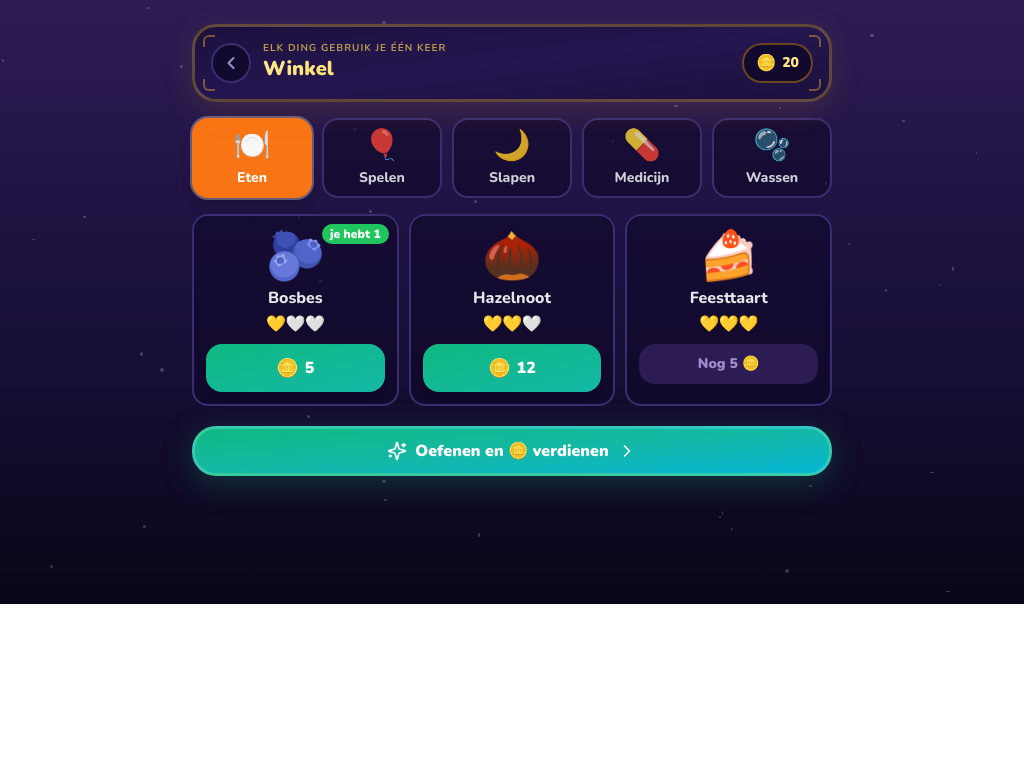
Test: BuddyShop › asks before spending coins, then offers to give the item to the Buddy
Click the button "🌰 Hazelnoot 💛💛🤍 🪙 12".
click(512, 310)  # box [409, 214, 615, 406]
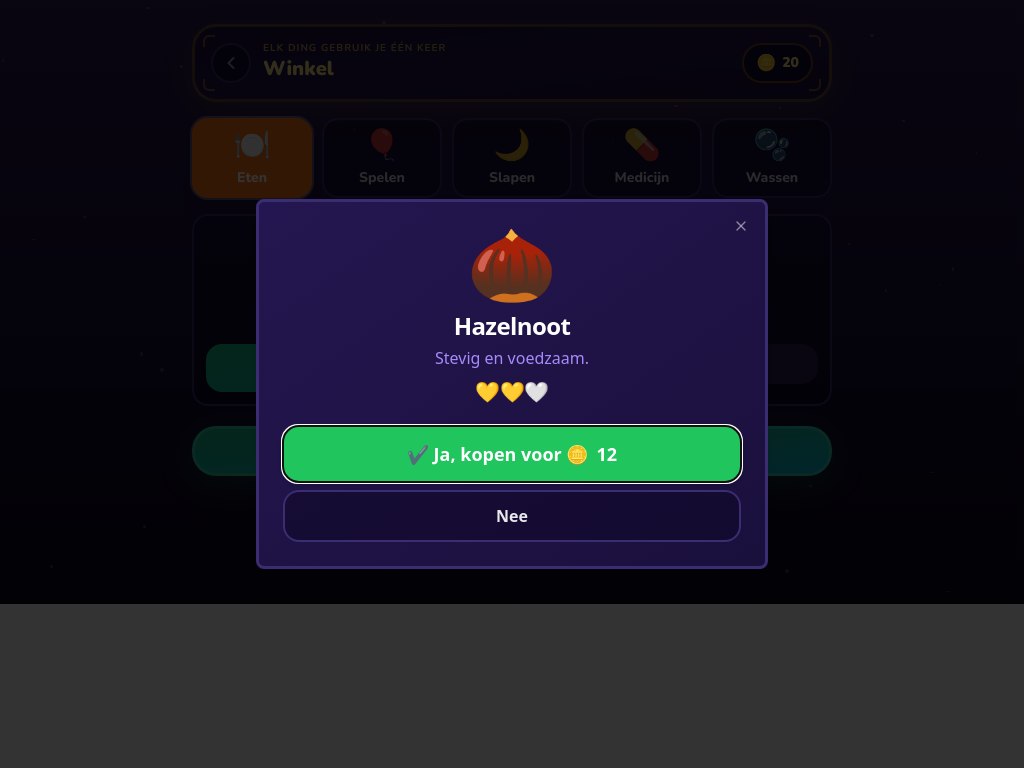
Click the button "✔️ Ja, kopen voor 🪙 12".
click(512, 454)  # box [283, 426, 741, 482]
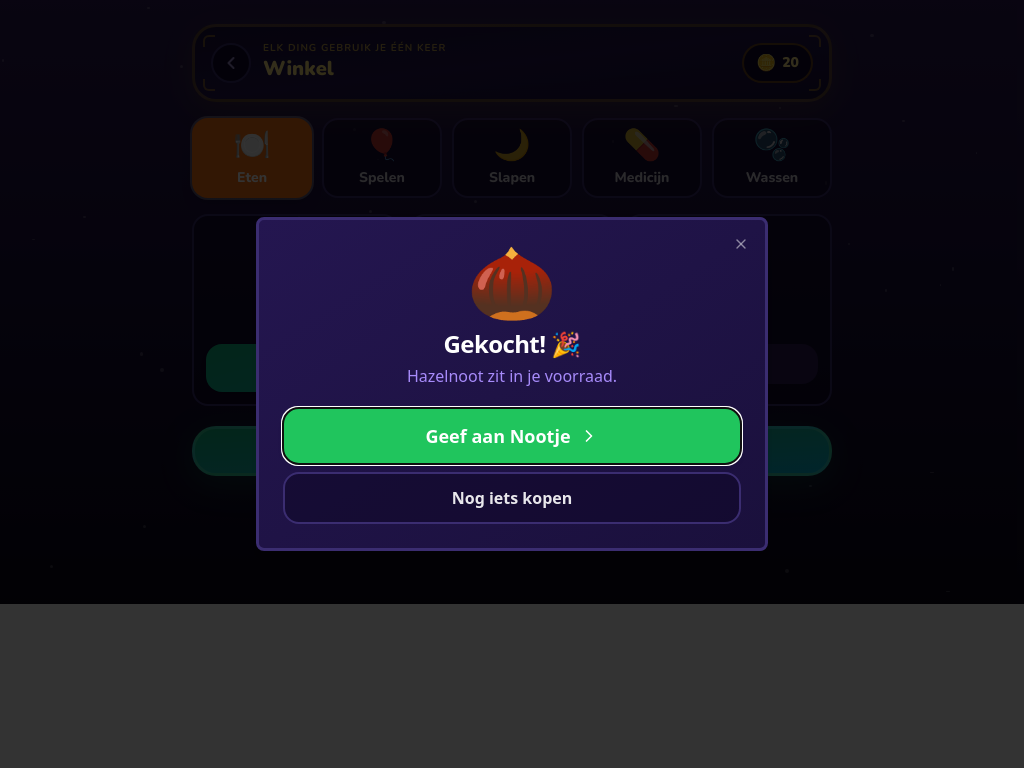
Expected: the heading "Gekocht! 🎉" is shown, [444, 328, 580, 360]
Click the button "Geef aan Nootje".
click(512, 436)  # box [283, 408, 741, 464]
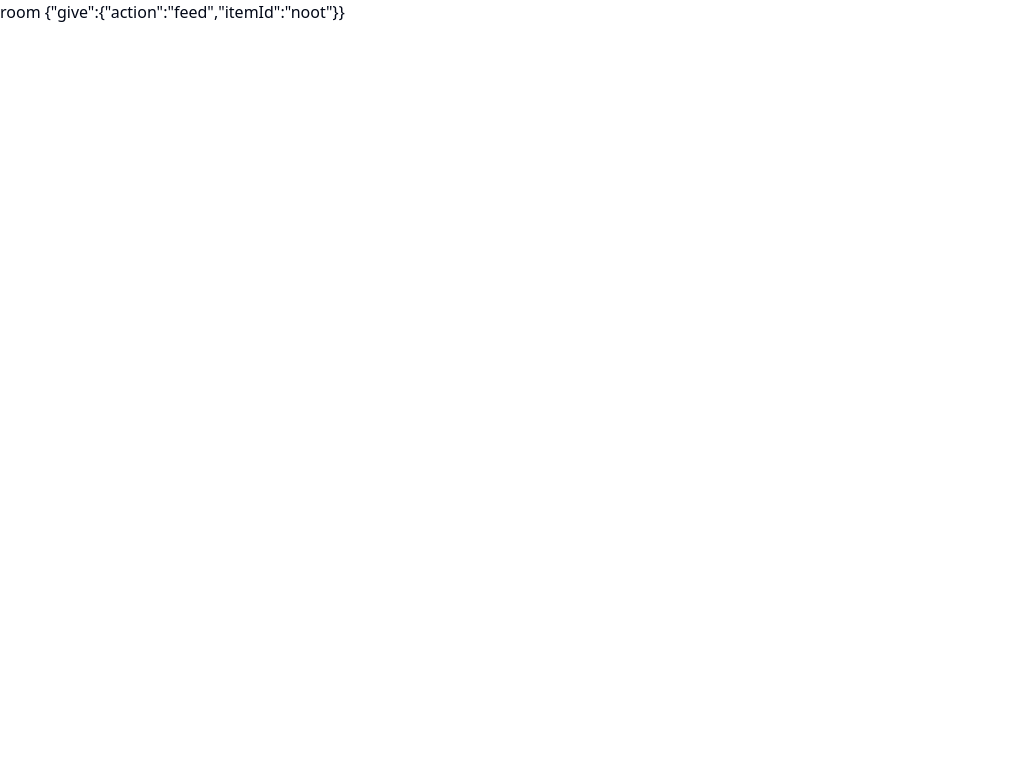
Expected: the text "room {\"give\":{\"action\":\"feed\",\"itemId\":\"noot\"}}" shows "{\"give\":{\"action\":\"feed\",\"itemId\":\"noot\"}}", [45, 1, 345, 23]
